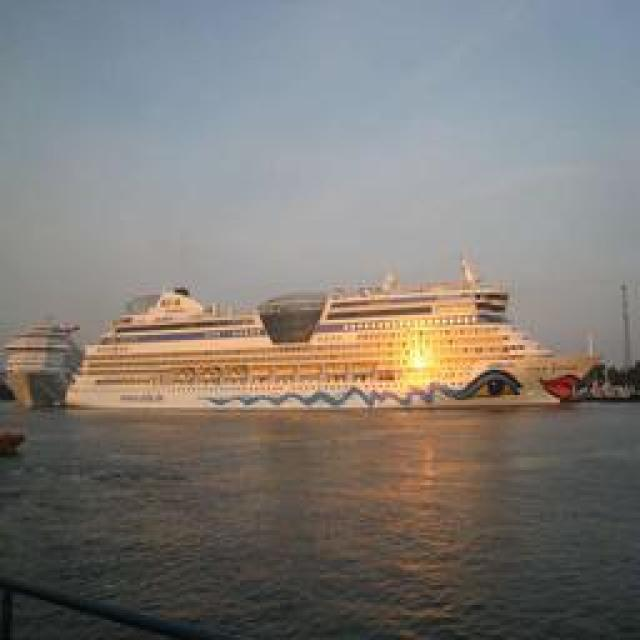CIV_Ship: (66, 275, 606, 413)
